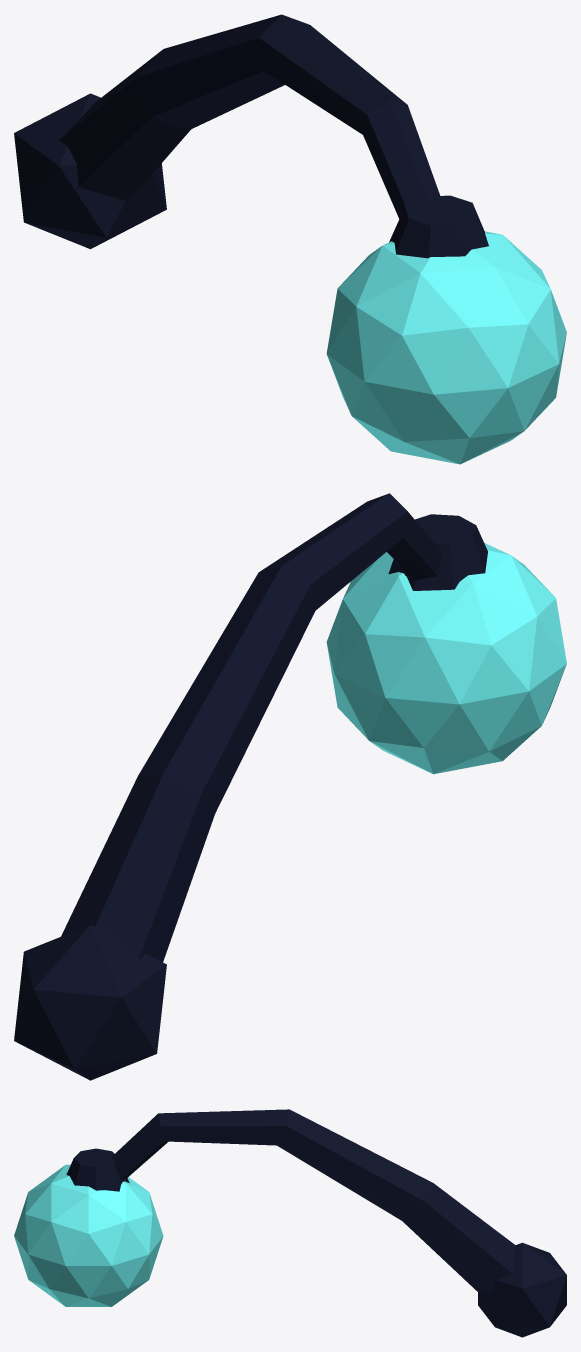
The model's file is TrophyAngler.obj.
3 renders of one model, top to bottom at view 1: azimuth 30°, elevation 25°; view 2: azimuth 150°, elevation 25°; view 3: azimuth 270°, elevation 25°, orthographic. The views are drawn at different scales.
Visible parts, largest first — view 1: TrophyAngler; view 2: TrophyAngler; view 3: TrophyAngler.
Boxes of the visible parts, left/top/right/bottom form: TrophyAngler: left=14, top=14, right=566, bottom=464; TrophyAngler: left=14, top=493, right=566, bottom=1080; TrophyAngler: left=14, top=1109, right=566, bottom=1337.
Size of the model in its own units: 0.1902 by 0.3366 by 0.7395.
